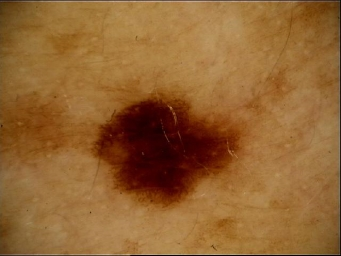melanoma: (95, 96, 237, 203)
